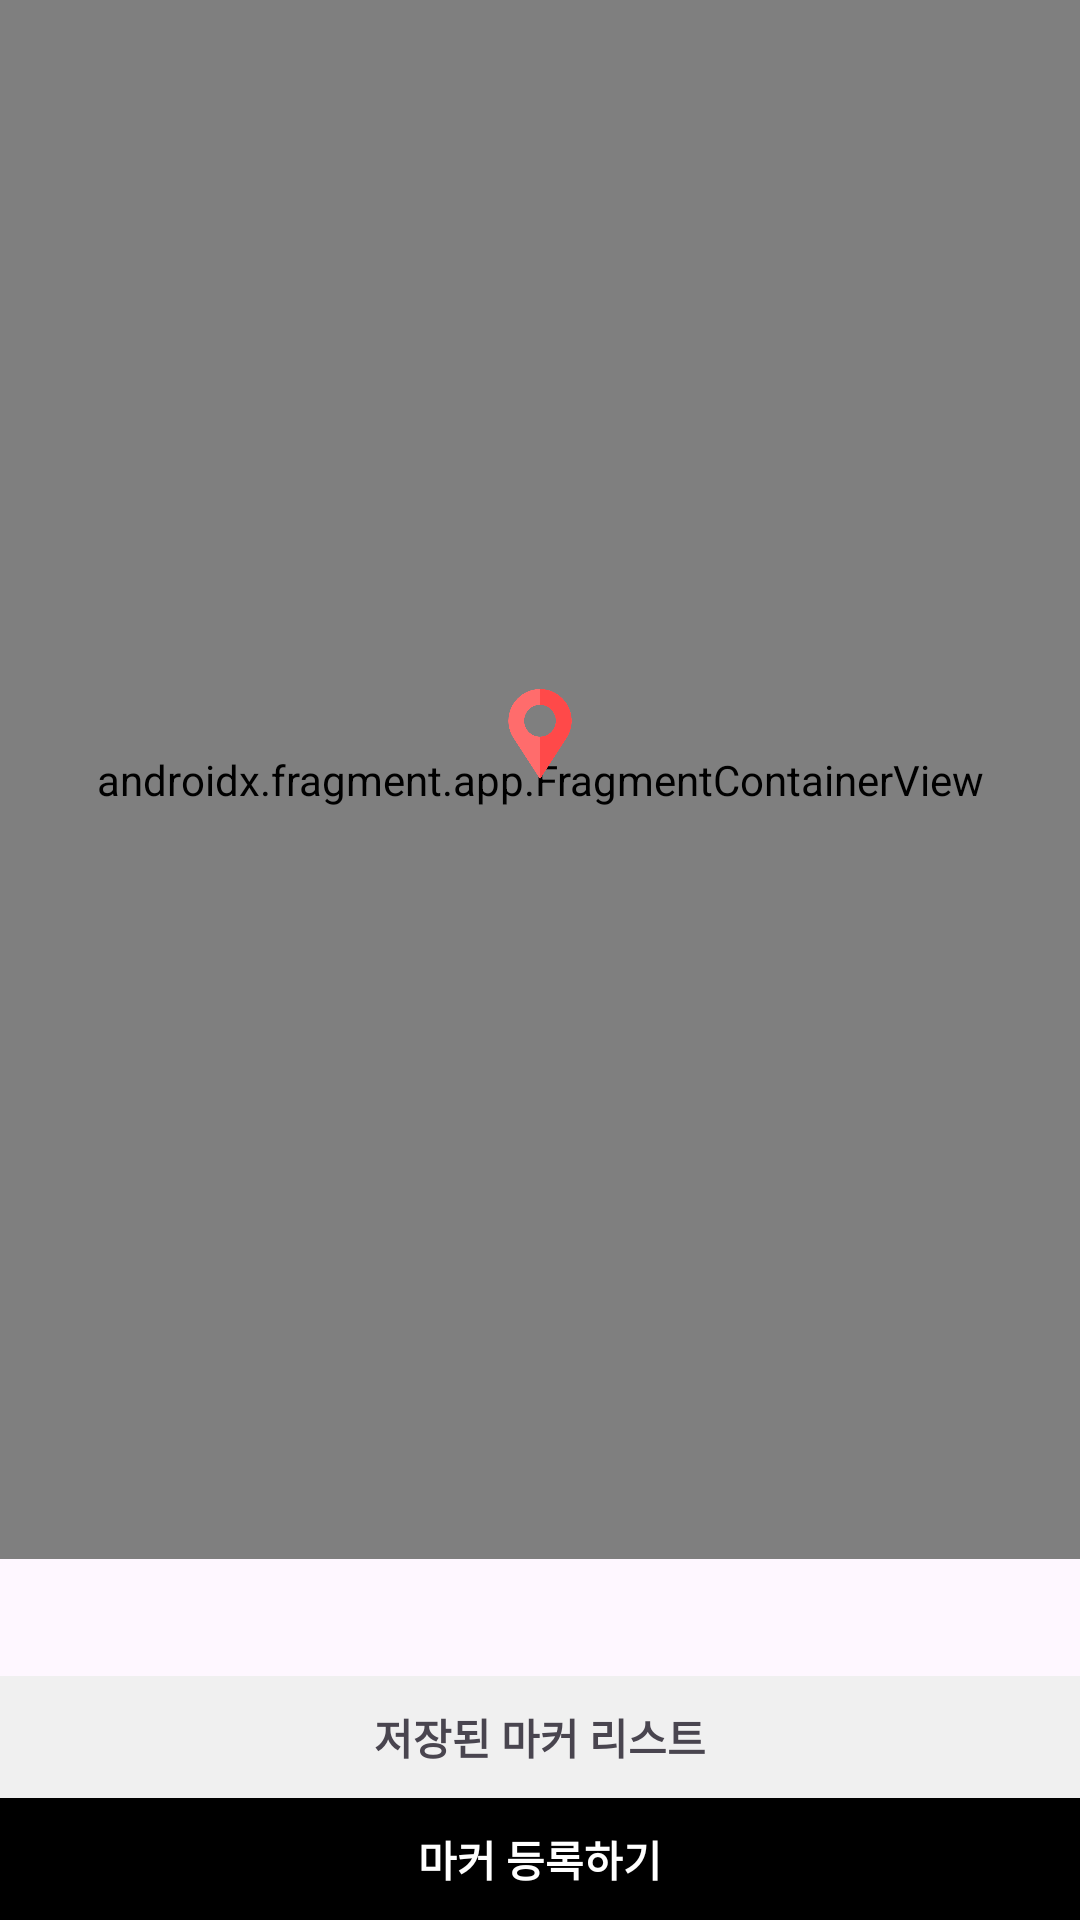

Named icons in this screenshot (1080x1920) and their centers, [x,y]:
location pin: [540,734]
